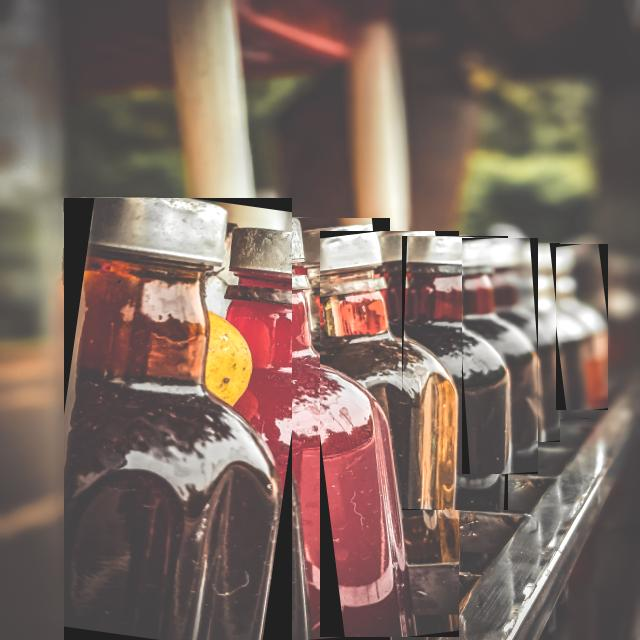Bottle: (64, 198, 292, 639), (207, 218, 390, 639), (320, 232, 459, 570), (403, 236, 508, 510), (463, 239, 537, 473), (497, 244, 560, 442), (527, 245, 588, 418), (557, 245, 607, 410)
